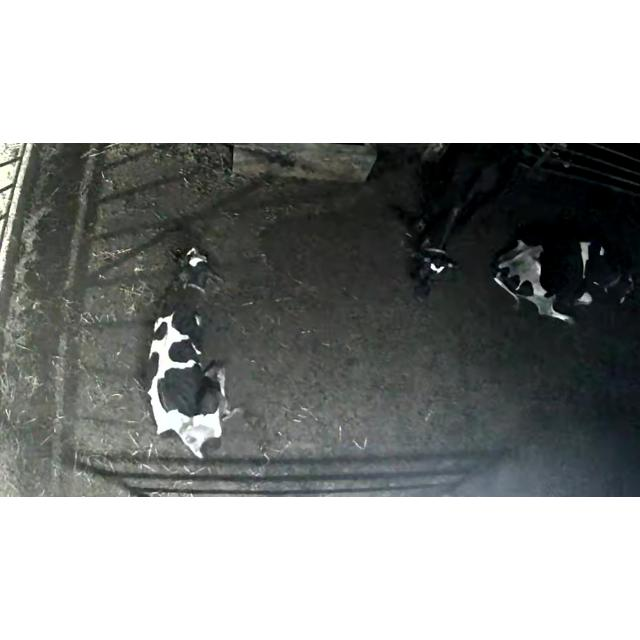lay: (146, 248, 239, 458), (492, 223, 634, 324)
